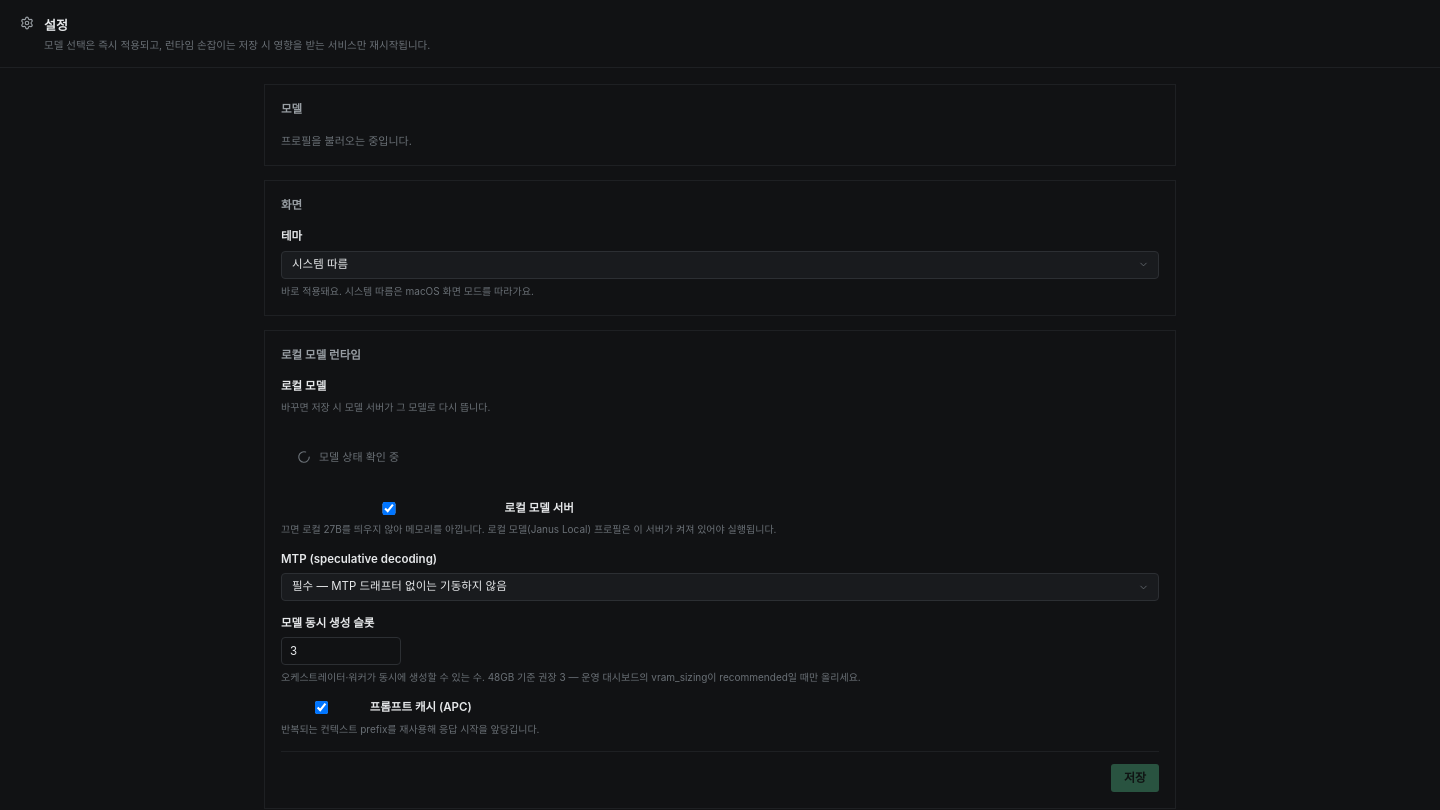
SettingsPage › loads runtime knobs and applies changes with a restart warning
This screenshot has width=1440, height=810.
Replace the text in the number field labelled "모델 동시 생성 슬롯" with "4": point(341, 651) [281,637,401,665]
(page scrolled)
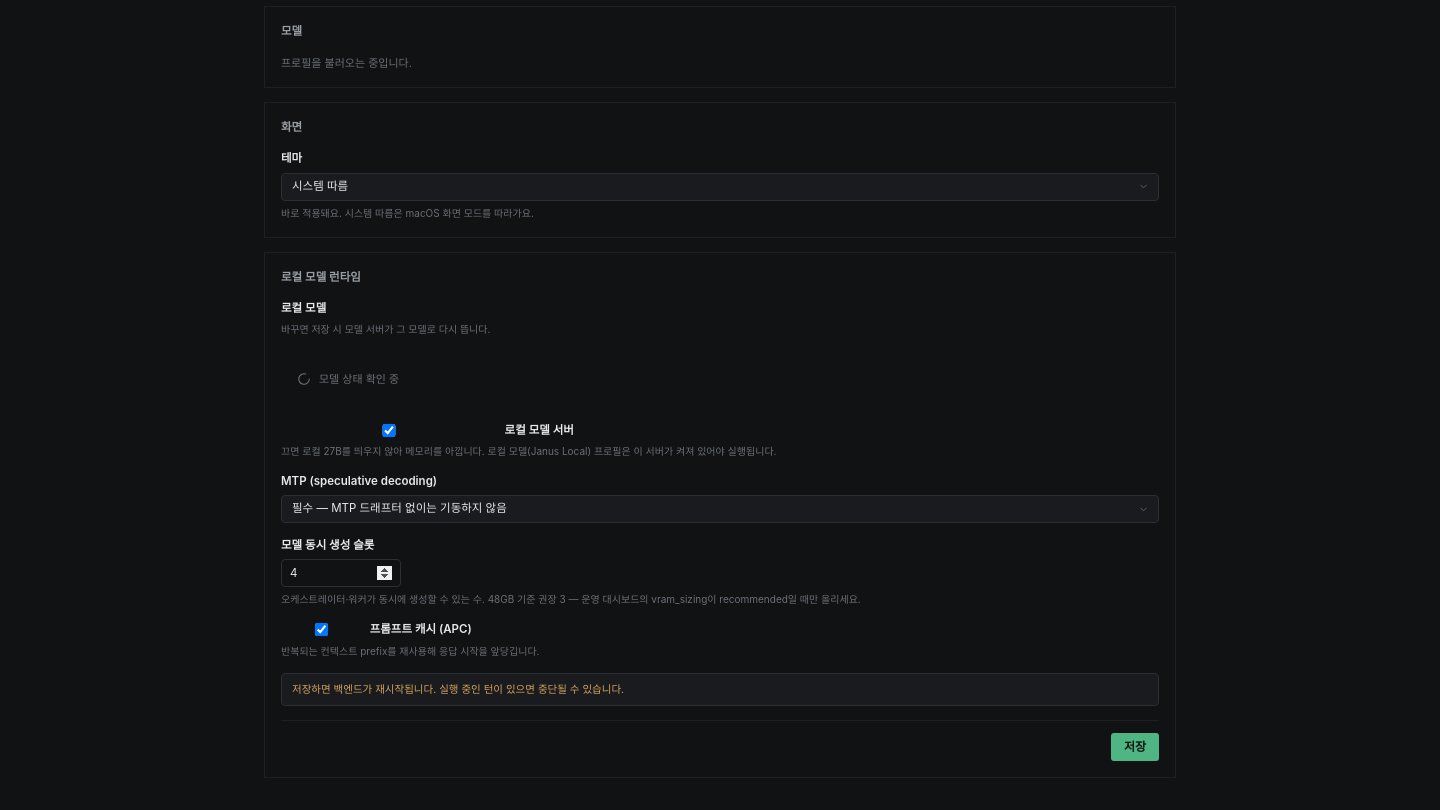
Now the text "저장하면 백엔드가 재시작됩니다. 실행 중인 턴이 있으면 중단될 수 있습니다." is shown, box [281,672,1159,706]
Click the button "저장": point(1135, 747) [1111,733,1159,761]
(page scrolled)
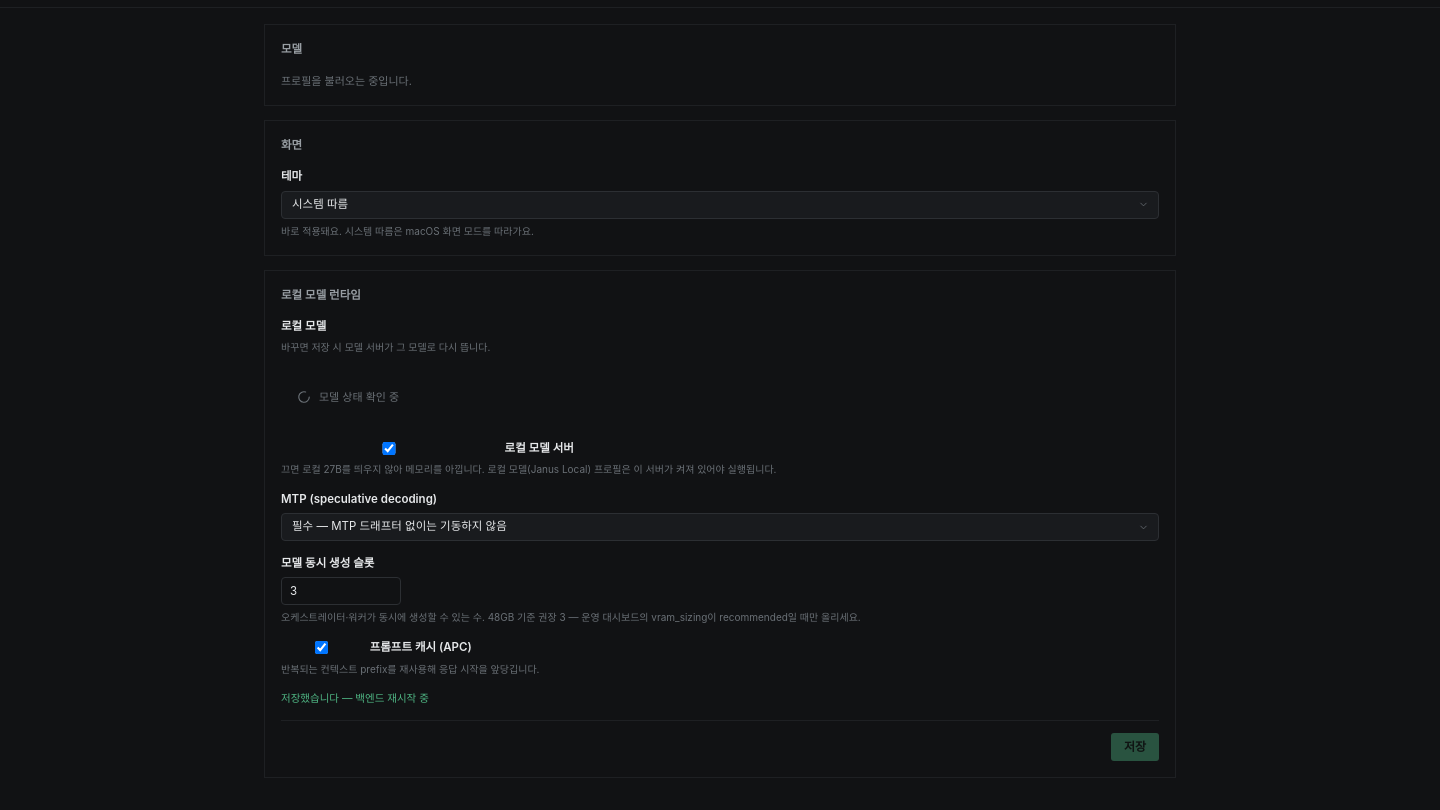
Now the text "저장했습니다 — 백엔드 재시작 중" is shown, box [281,692,429,704]
